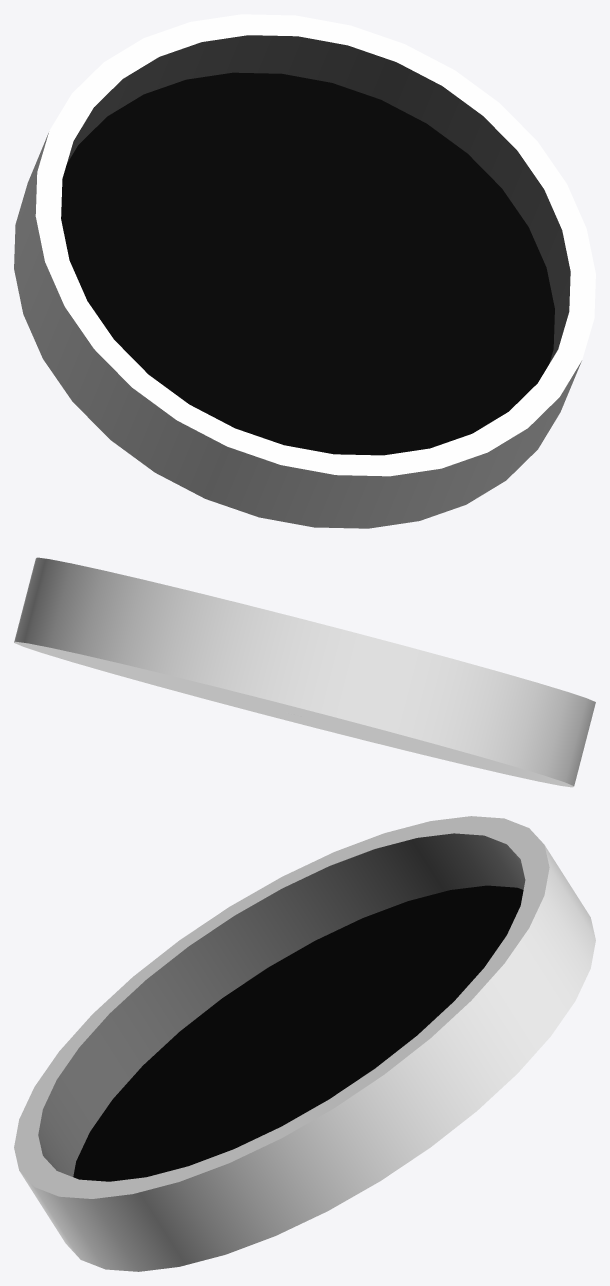
Rendered from hole.fbx.
3 renders of one model, top to bottom at view 1: azimuth 30°, elevation 25°; view 2: azimuth 150°, elevation 25°; view 3: azimuth 270°, elevation 25°, orthographic. The views are drawn at different scales.
Parts seen in each view (by area): view 1: Circle; view 2: Circle; view 3: Circle.
Part boxes in pixels (left/top/right/bottom): Circle: left=14, top=14, right=595, bottom=528; Circle: left=14, top=557, right=595, bottom=787; Circle: left=14, top=816, right=595, bottom=1271.
Size of the model in its own units: 180 by 113 by 169.
Materials: 1 (1 with a texture image).
